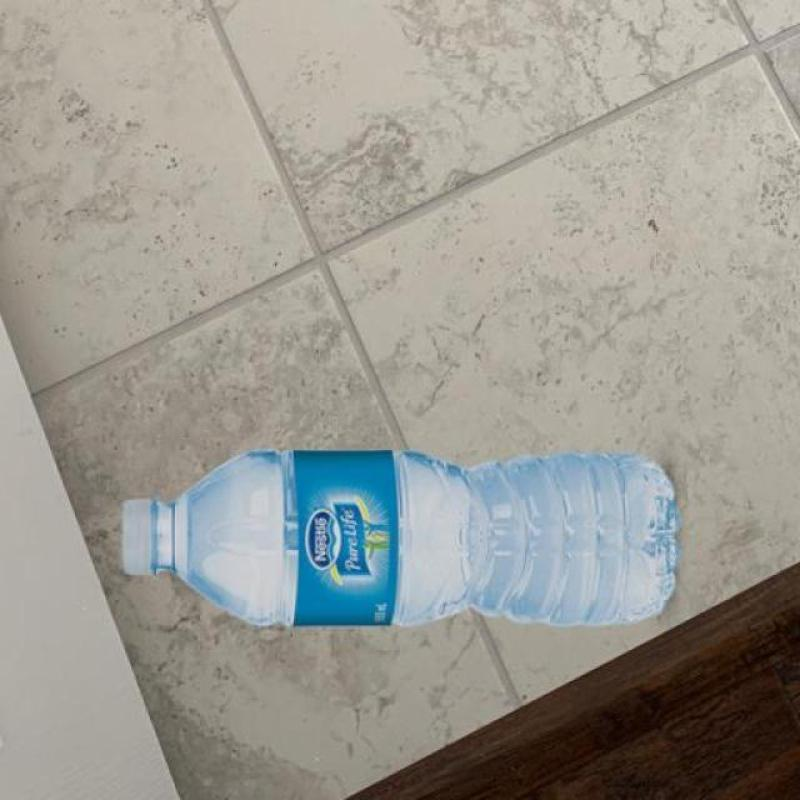botella: (117, 450, 677, 626)
